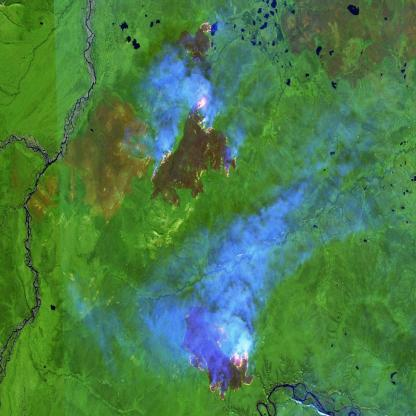fire: (149, 92, 239, 184), (180, 304, 256, 405), (185, 17, 218, 71)
